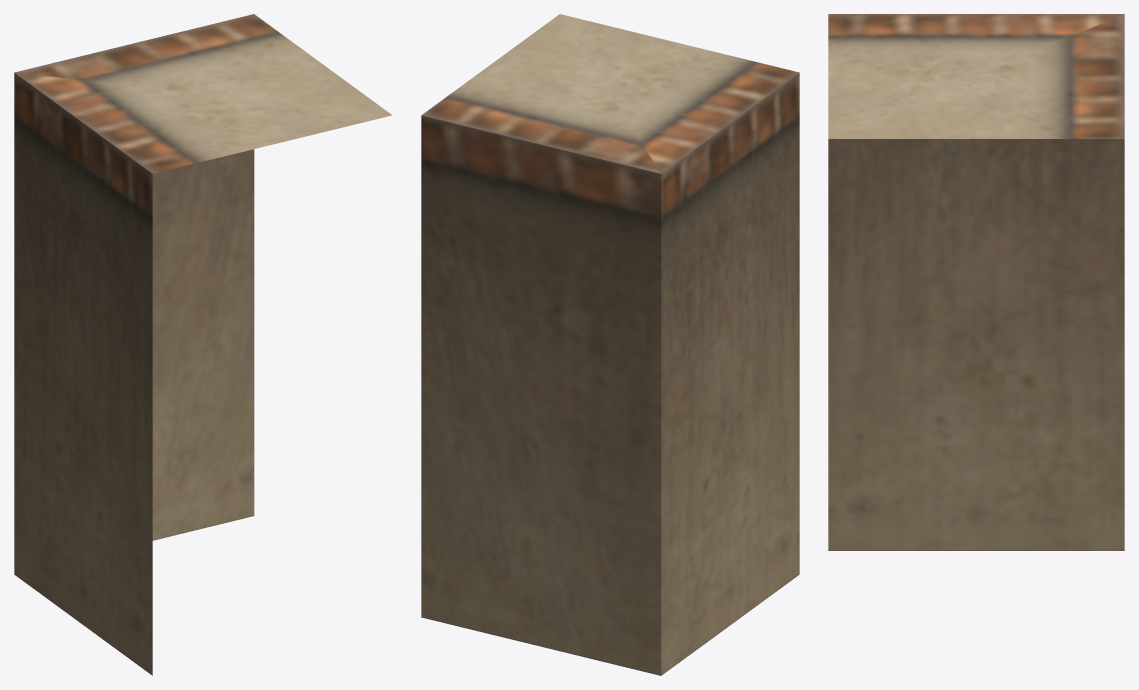
File: normal_outter_corner.glb
The picture shows the model from 3 angles, left to right: view 1: azimuth 30°, elevation 25°; view 2: azimuth 150°, elevation 25°; view 3: azimuth 270°, elevation 25°; orthographic projection. The views are drawn at different scales.
Visible parts, largest first — view 1: SmallFlatTurnOut_90; view 2: SmallFlatTurnOut_90; view 3: SmallFlatTurnOut_90.
Part boxes in pixels (left/top/right/bottom): SmallFlatTurnOut_90: left=14, top=14, right=392, bottom=675; SmallFlatTurnOut_90: left=421, top=14, right=799, bottom=675; SmallFlatTurnOut_90: left=828, top=14, right=1124, bottom=550.
Size of the model in its own units: 2.5 by 5 by 2.5.
Materials: 2 (2 with a texture image).
